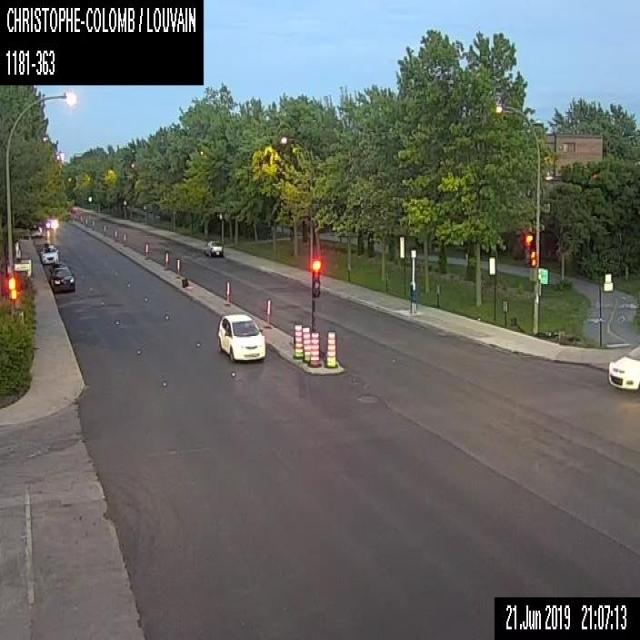construction: (322, 330, 338, 368), (308, 331, 320, 365), (293, 321, 302, 358), (302, 325, 310, 362)
vehicle: (216, 311, 266, 361), (606, 341, 639, 392), (50, 266, 74, 294), (40, 243, 58, 264), (202, 239, 223, 257), (30, 223, 41, 236)
